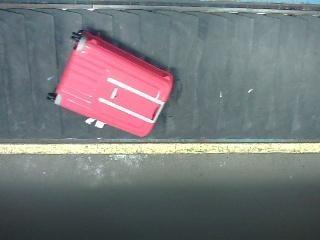Suitcase: (55, 31, 174, 137)
